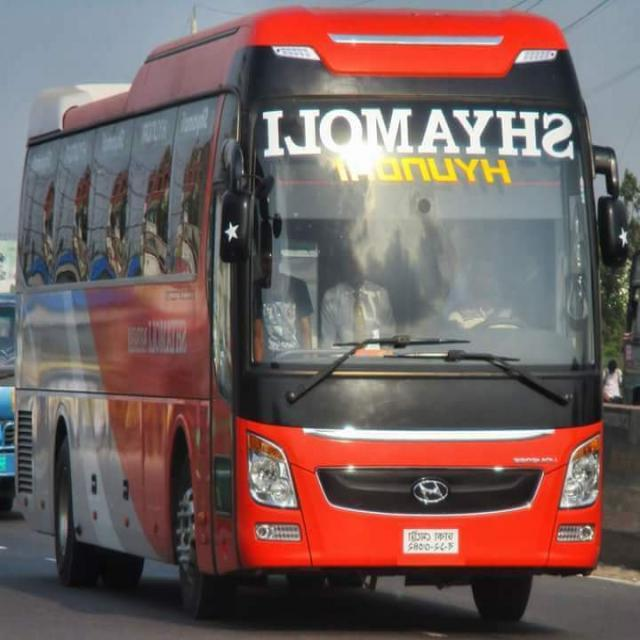Bus: (1, 1, 633, 640)
